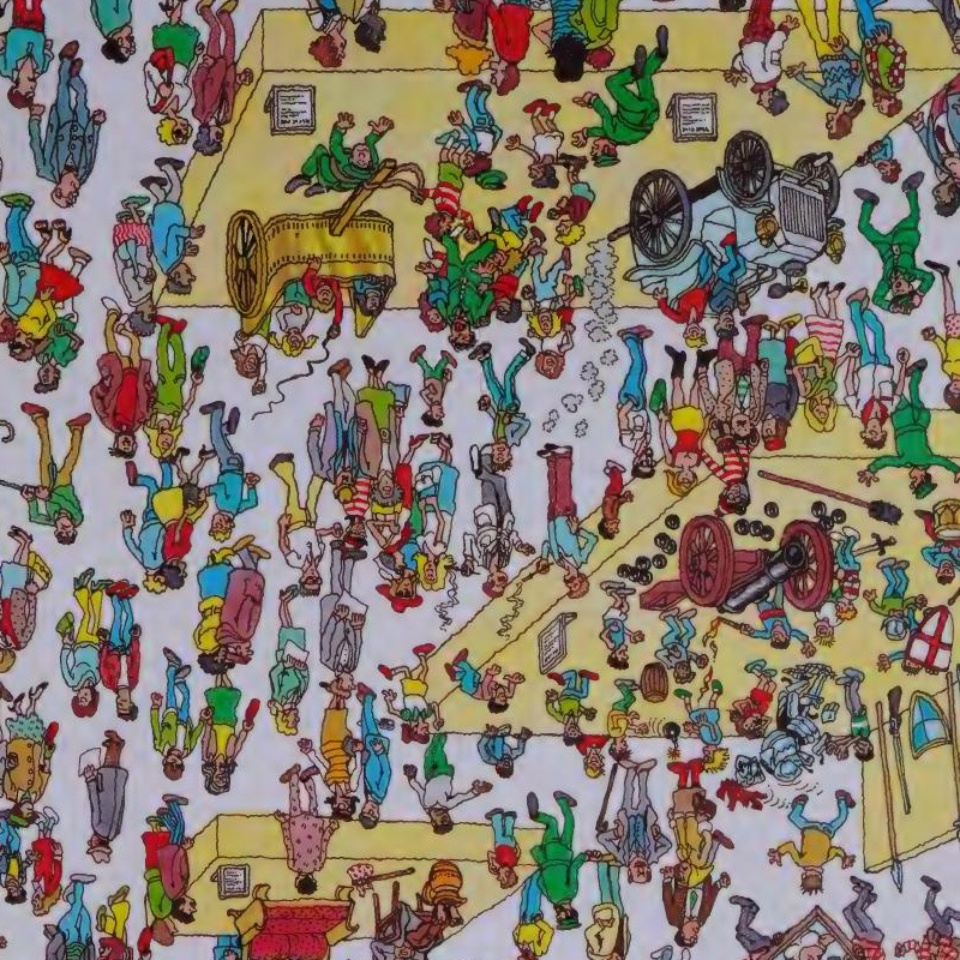waldo: (708, 445, 755, 516)
